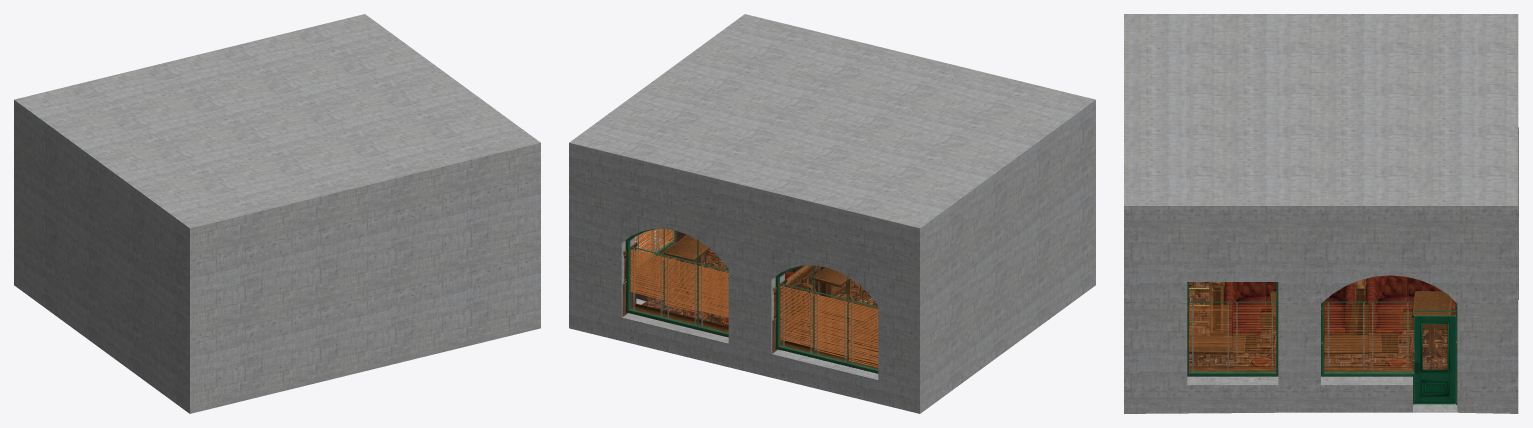
File: pubInt.glb
3 renders of one model, left to right at view 1: azimuth 30°, elevation 25°; view 2: azimuth 150°, elevation 25°; view 3: azimuth 270°, elevation 25°, orthographic. The views are drawn at different scales.
Parts seen in each view (by area): view 1: Object_16; view 2: Object_16, Object_32, Object_4, Object_20, Object_104; view 3: Object_16, Object_64, Object_32, Object_4, Object_20, Object_104, Object_111.
Boxes of the visible parts, x1,y1,x2,y2 form: Object_16: (14,14,540,413); Object_16: (569,14,1095,413); Object_32: (630,229,878,367); Object_4: (622,229,878,373); Object_20: (653,234,878,360); Object_104: (631,256,878,362); Object_16: (1124,14,1518,413); Object_64: (1223,275,1454,353); Object_32: (1189,302,1411,371); Object_4: (1187,279,1457,404); Object_20: (1189,291,1452,366); Object_104: (1189,282,1455,371); Object_111: (1414,315,1455,404).
Size of what is drawn, in the model's own units: 9.32 by 4.71 by 8.09.
Materials: 11 (11 with a texture image).
